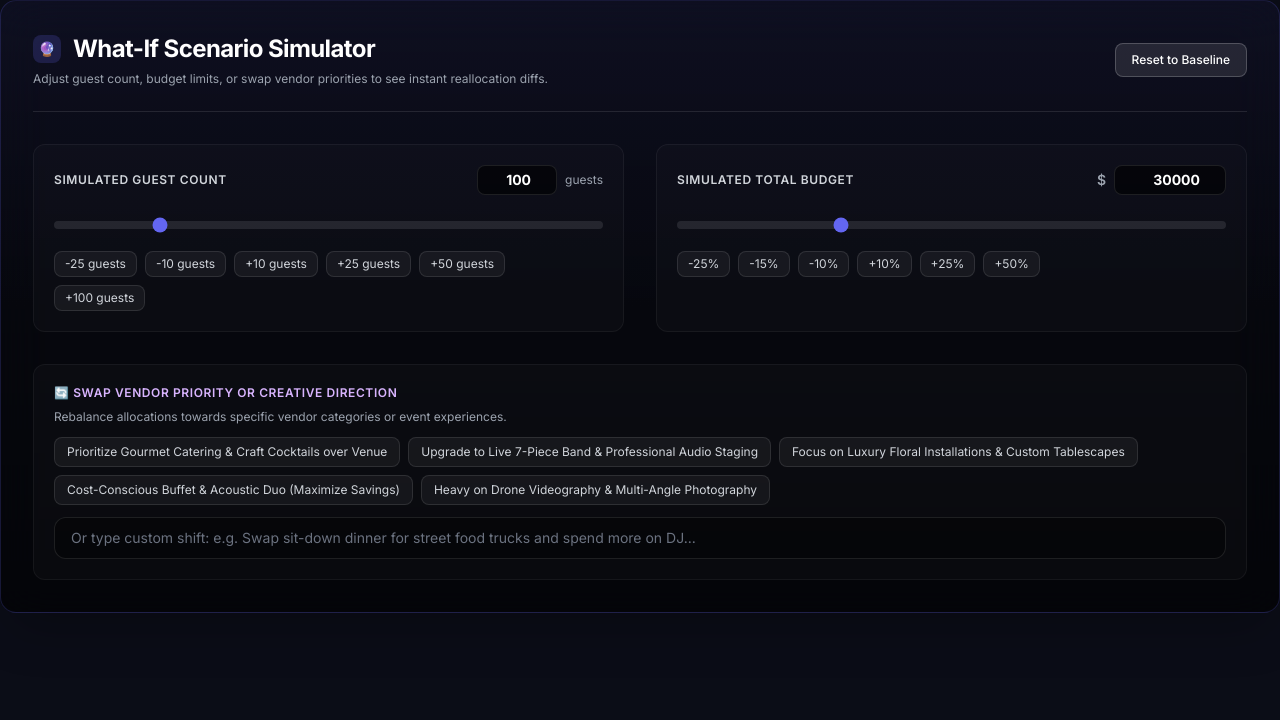
WhatIfPanel › applies vendor swap preset on click
Click the button "Prioritize Gourmet Catering & Craft Cocktails over Venue" at [227, 452], box [54,437,400,467]
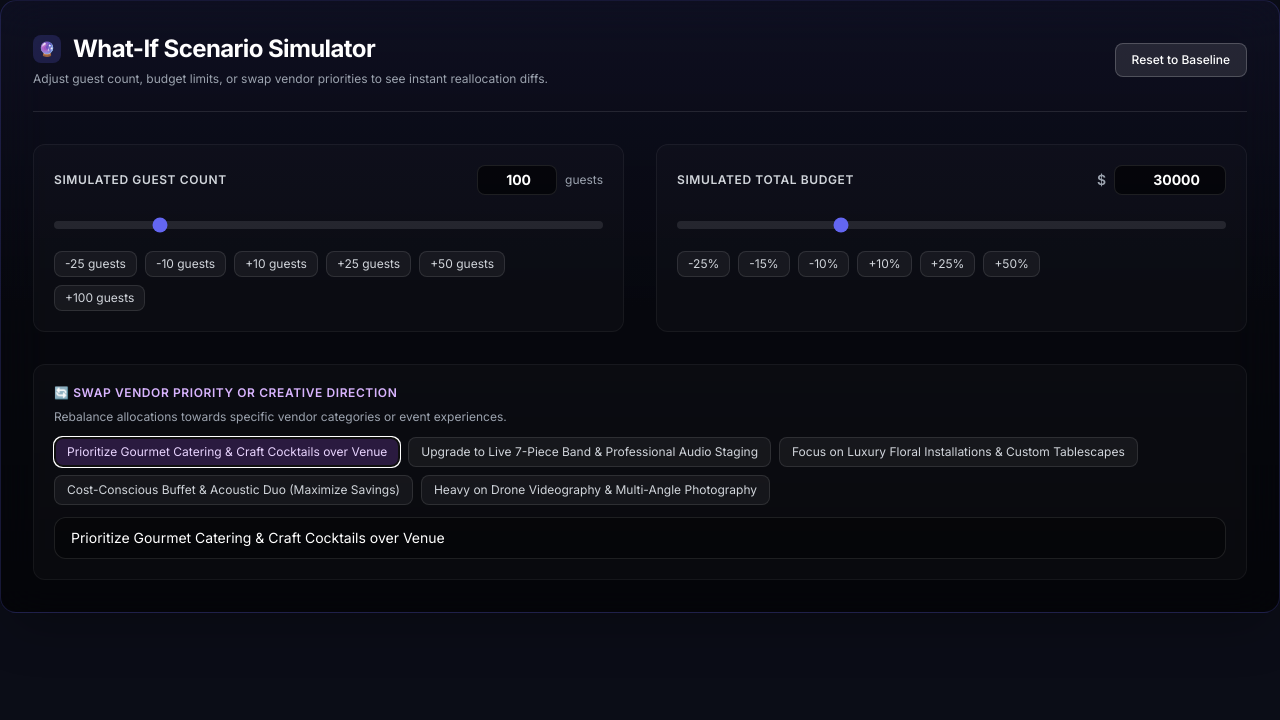
Expected: the field with placeholder "Or type custom shift" holds "Prioritize Gourmet Catering & Craft Cocktails over Venue", [54,517,1226,559]
